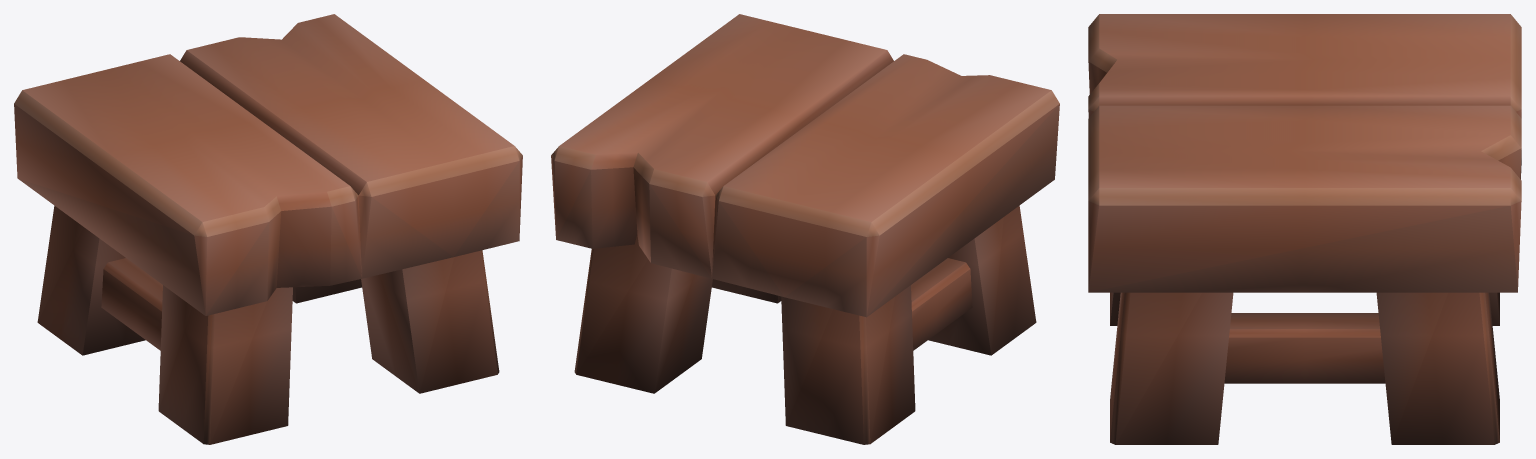
File: prop_stool.glb
The picture shows the model from 3 angles, left to right: view 1: azimuth 30°, elevation 25°; view 2: azimuth 150°, elevation 25°; view 3: azimuth 270°, elevation 25°; orthographic projection. The views are drawn at different scales.
Visible parts, largest first — view 1: refined; view 2: refined; view 3: refined.
Part boxes in pixels (box(x1,y1,x2,y2)): refined: box(14, 14, 522, 444); refined: box(551, 14, 1059, 444); refined: box(1088, 14, 1521, 444).
Bounding box in the file's own units: 0.75 × 0.5 × 0.75.
